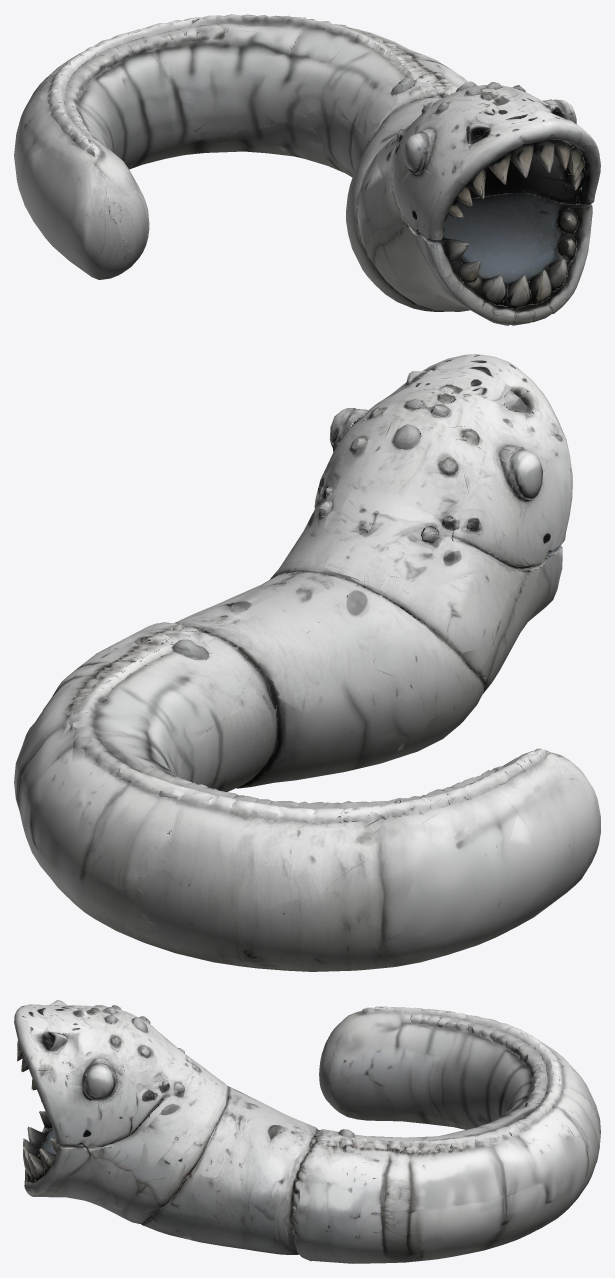
Rendered from swimmer.glb.
3 views of the same model, one above another, from view 1: azimuth 30°, elevation 25°; view 2: azimuth 150°, elevation 25°; view 3: azimuth 270°, elevation 25° (orthographic). The views are drawn at different scales.
Parts seen in each view (by area): view 1: model; view 2: model; view 3: model.
Part boxes in pixels (x1,y1,x2,y2): model: [14, 14, 600, 325]; model: [14, 354, 600, 971]; model: [14, 1000, 600, 1263].
Bounding box in the file's own units: 1.45 × 0.7991 × 2.02.
Materials: 1 (1 with a texture image).
